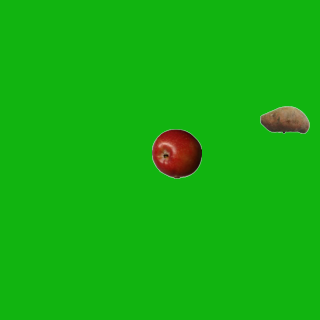Apple Braeburn: (151, 128, 201, 178)
Potato Sweet: (259, 94, 309, 144)
